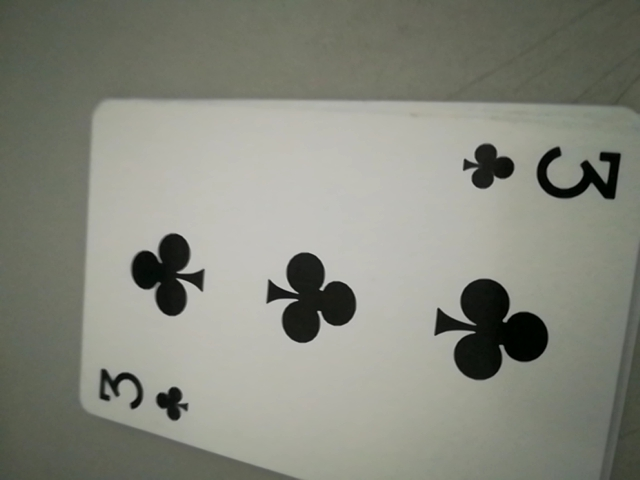mh 3: (460, 132, 624, 204), (93, 364, 193, 425)
